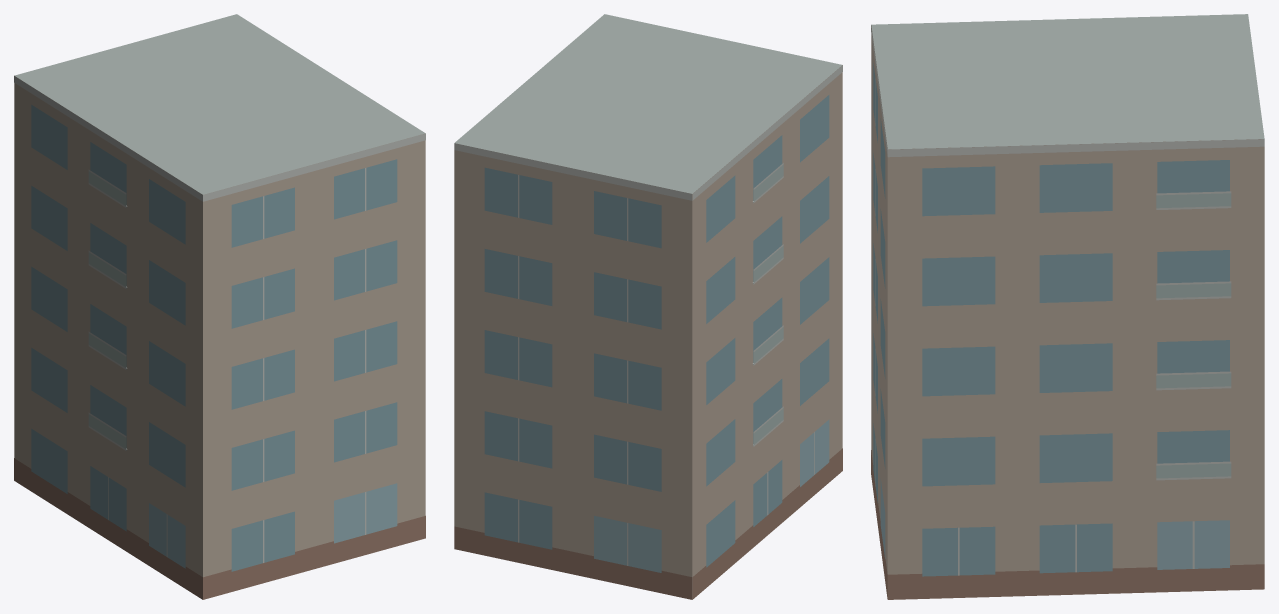
File: survey-upis-32705868.glb
3 views of the same model, side by side, from view 1: azimuth 30°, elevation 25°; view 2: azimuth 150°, elevation 25°; view 3: azimuth 270°, elevation 25° (orthographic). The views are drawn at different scales.
Parts seen in each view (by area): view 1: survey-upis-32705868.tmp; view 2: survey-upis-32705868.tmp; view 3: survey-upis-32705868.tmp.
Boxes of the visible parts, x1,y1,x2,y2 form: survey-upis-32705868.tmp: (14, 14, 425, 599); survey-upis-32705868.tmp: (454, 14, 842, 599); survey-upis-32705868.tmp: (871, 14, 1264, 599).
Bounding box in the file's own units: 9.17 × 14.2 × 11.25.
